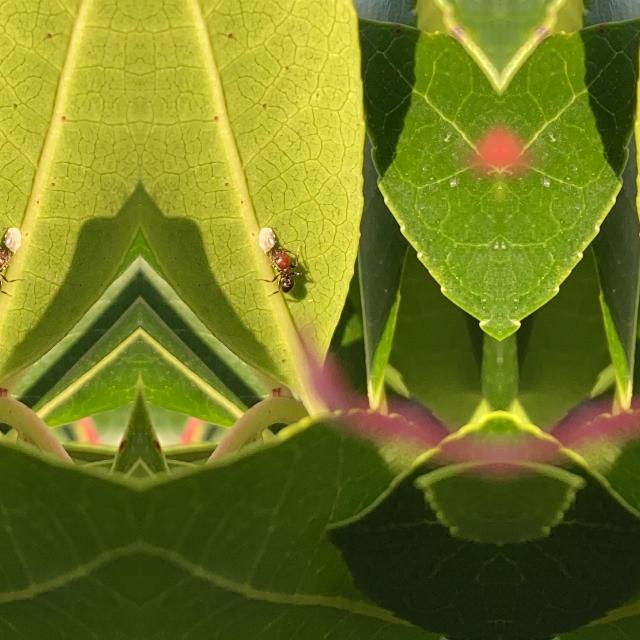Crematogaster: (264, 235, 304, 297), (0, 235, 15, 297)
